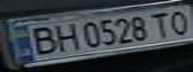0: (78, 18, 103, 50)
2: (115, 15, 136, 46)
5: (97, 16, 118, 47)
8: (130, 12, 151, 43)
B: (24, 24, 60, 56)
H: (48, 20, 81, 53)
O: (163, 7, 193, 36)
T: (148, 10, 175, 39)
